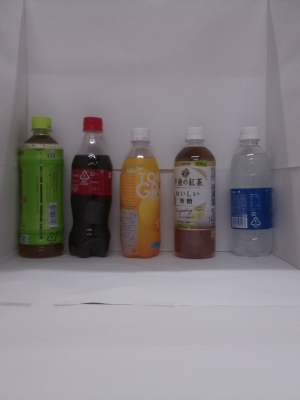おーいお茶: (15, 109, 68, 264)
グレープフルーツスカッシュ: (117, 120, 167, 263)
コーラ: (67, 110, 116, 266)
ポカリスエット: (226, 124, 280, 264)
午後の紅茶: (169, 123, 220, 265)
